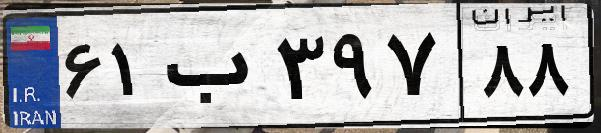1: (110, 28, 158, 98)
3: (270, 28, 330, 110)
6: (57, 26, 110, 100)
7: (385, 28, 445, 110)
8: (475, 38, 525, 113), (525, 38, 570, 115)
9: (330, 28, 385, 110)
ب: (158, 20, 270, 120)
